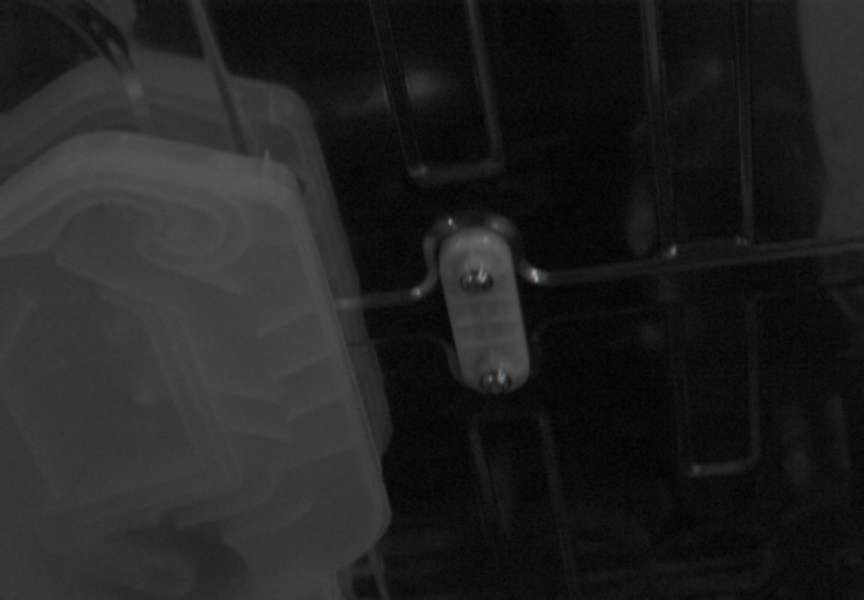screw: (479, 368, 512, 395), (460, 267, 494, 293)
